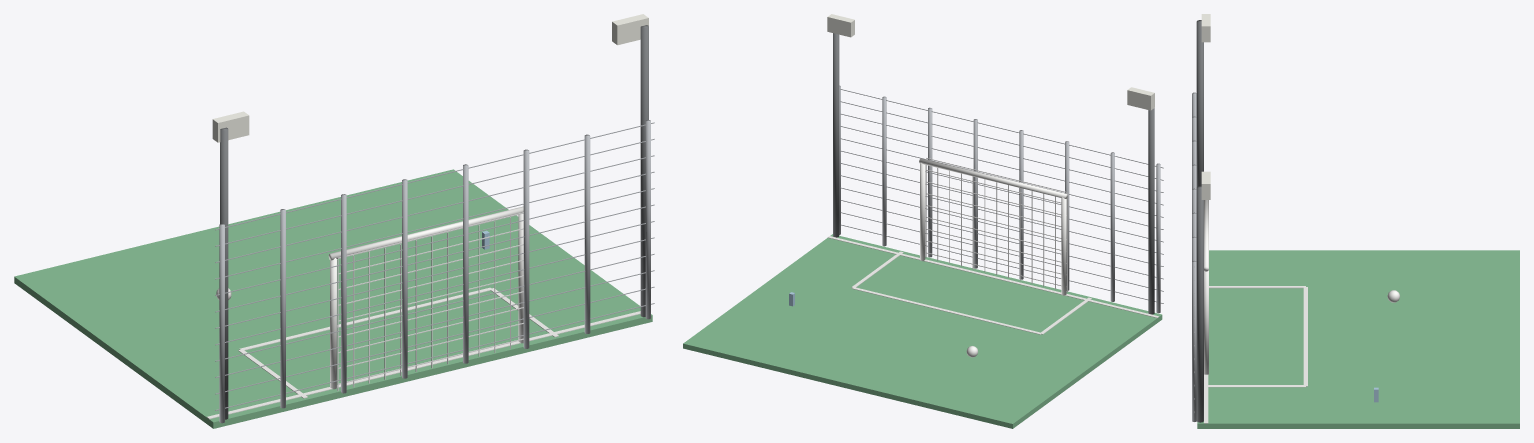
File: salida.cancha_futbol5.fbx
The picture shows the model from 3 angles, left to right: view 1: azimuth 30°, elevation 25°; view 2: azimuth 150°, elevation 25°; view 3: azimuth 270°, elevation 25°; orthographic projection. The views are drawn at different scales.
Visible parts, largest first — view 1: Suelo, Torre del foco, Torre del foco.001, Poste de la reja.002, Línea de fondo, Poste de la reja.001, Travesaño, Poste de la reja.005, Poste de la reja.003, Poste de la reja.004, Poste de la reja.006, Poste de la reja.007 (+18 smaller); view 2: Suelo, Torre del foco.001, Torre del foco, Línea de fondo, Travesaño, Poste de la reja.001, Poste de la reja.007, Poste de la reja.006, Poste de la reja.003, Poste de la reja.004, Poste de la reja.002, Palo (+5 smaller); view 3: Suelo, Torre del foco, Torre del foco.001, Poste de la reja, Palo, Línea del área, Travesaño.
Part boxes in pixels (x1=…): Suelo: x1=14, y1=169, x2=652, y2=428; Torre del foco: x1=640, y1=25, x2=648, y2=317; Torre del foco.001: x1=220, y1=127, x2=228, y2=419; Poste de la reja.002: x1=523, y1=149, x2=529, y2=348; Línea de fondo: x1=206, y1=311, x2=640, y2=419; Poste de la reja.001: x1=584, y1=134, x2=590, y2=333; Travesaño: x1=328, y1=206, x2=523, y2=260; Poste de la reja.005: x1=341, y1=194, x2=346, y2=393; Poste de la reja.003: x1=463, y1=164, x2=468, y2=363; Poste de la reja.004: x1=402, y1=179, x2=407, y2=378; Poste de la reja.006: x1=280, y1=209, x2=285, y2=408; Poste de la reja.007: x1=219, y1=224, x2=224, y2=423; Suelo: x1=683, y1=234, x2=1162, y2=428; Torre del foco.001: x1=1148, y1=108, x2=1154, y2=314; Torre del foco: x1=833, y1=33, x2=839, y2=237; Línea de fondo: x1=827, y1=236, x2=1159, y2=318; Travesaño: x1=919, y1=158, x2=1067, y2=198; Poste de la reja.001: x1=882, y1=96, x2=886, y2=246; Poste de la reja.007: x1=1156, y1=163, x2=1160, y2=313; Poste de la reja.006: x1=1110, y1=152, x2=1114, y2=301; Poste de la reja.003: x1=973, y1=119, x2=977, y2=268; Poste de la reja.004: x1=1019, y1=130, x2=1023, y2=279; Poste de la reja.002: x1=928, y1=107, x2=932, y2=257; Palo: x1=920, y1=162, x2=925, y2=261; Suelo: x1=1197, y1=250, x2=1519, y2=428; Torre del foco: x1=1196, y1=186, x2=1203, y2=422; Torre del foco.001: x1=1196, y1=20, x2=1203, y2=186; Poste de la reja: x1=1192, y1=261, x2=1196, y2=421; Palo: x1=1204, y1=270, x2=1208, y2=374; Línea del área: x1=1303, y1=287, x2=1307, y2=386; Travesaño: x1=1204, y1=200, x2=1208, y2=271.
Size of the model in its own units: 7 by 4.6 by 5.59.
